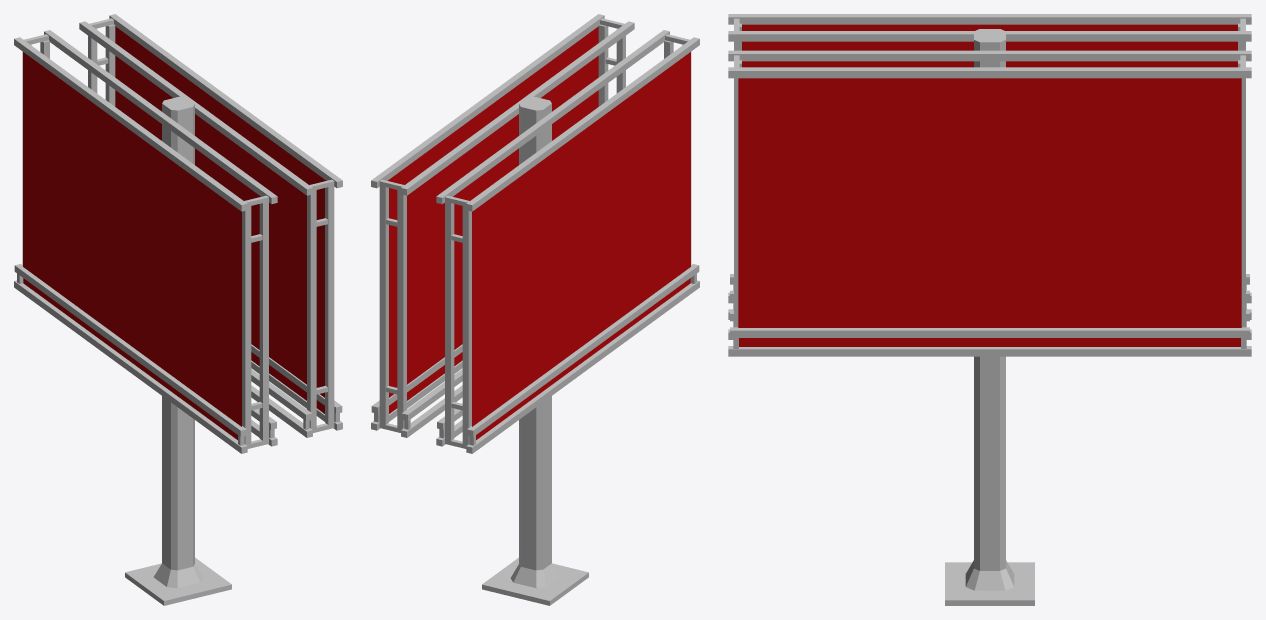
The model's file is BillBoard5.fbx.
3 renders of one model, left to right at view 1: azimuth 30°, elevation 25°; view 2: azimuth 150°, elevation 25°; view 3: azimuth 270°, elevation 25°, orthographic. The views are drawn at different scales.
Parts seen in each view (by area): view 1: BillBoard5 (×2); view 2: BillBoard5 (×2); view 3: BillBoard5 (×2).
Part boxes in pixels (x1,y1,x2,y2): BillBoard5 (×2): (14,14,342,605); BillBoard5 (×2): (371,14,699,605); BillBoard5 (×2): (728,14,1251,605).
Bounding box in the file's own units: 160 × 723 × 622.
